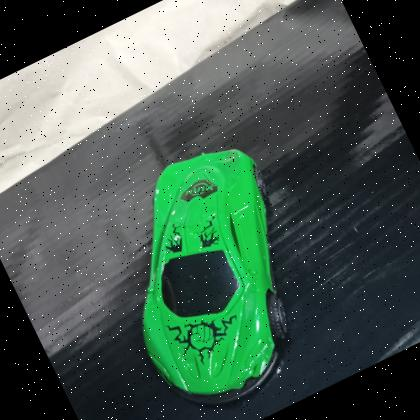Car: (67, 121, 351, 420)
